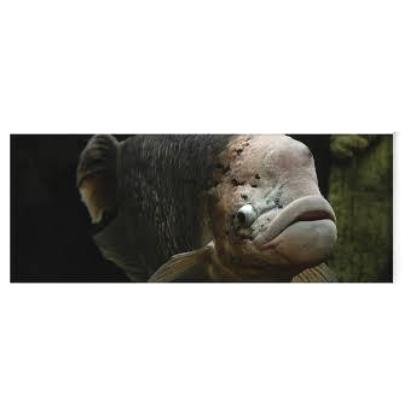gurame: (74, 132, 344, 282)
